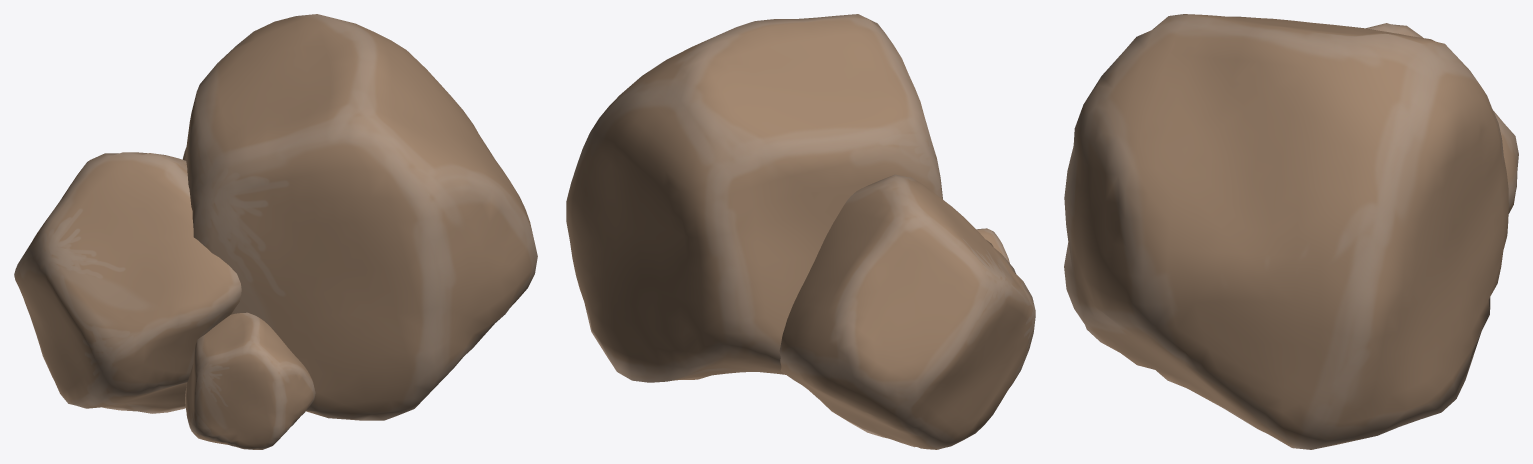
The model's file is Stone2.fbx.
3 views of the same model, side by side, from view 1: azimuth 30°, elevation 25°; view 2: azimuth 150°, elevation 25°; view 3: azimuth 270°, elevation 25° (orthographic). The views are drawn at different scales.
Visible parts, largest first — view 1: Stone2; view 2: Stone2; view 3: Stone2.
Boxes of the visible parts, x1=… form: Stone2: x1=14, y1=14, x2=537, y2=449; Stone2: x1=566, y1=14, x2=1035, y2=449; Stone2: x1=1064, y1=14, x2=1518, y2=449.
Size of the model in its own units: 109 by 82.9 by 88.21.
